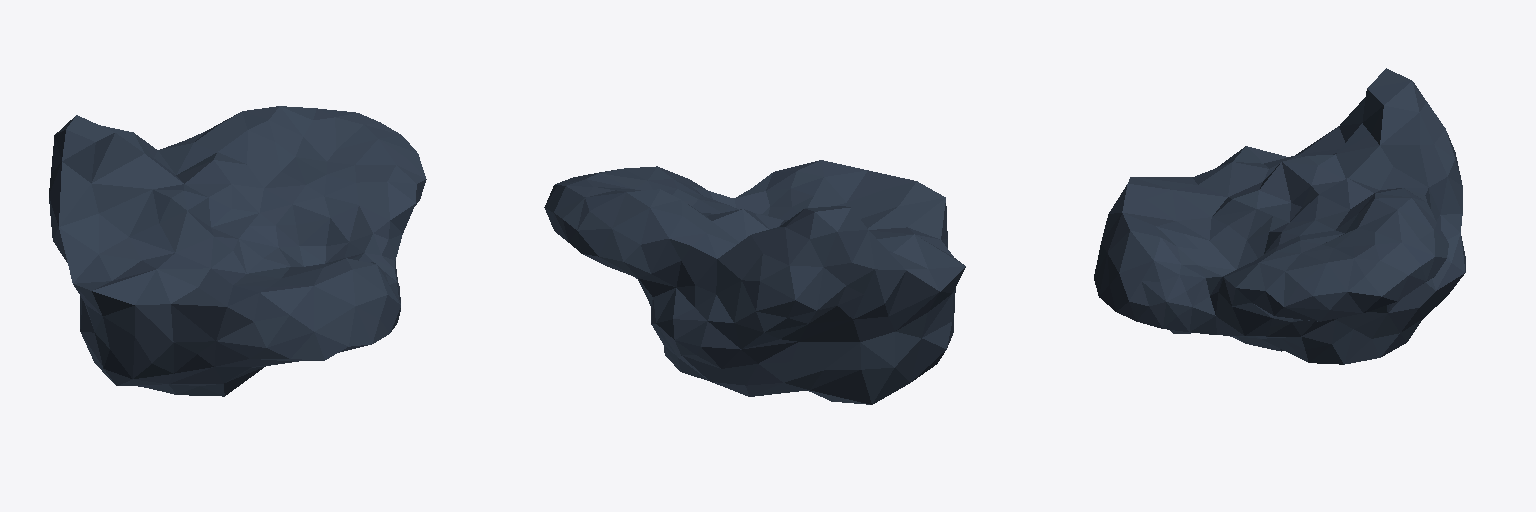
Rendered from mountain.obj.
3 renders of one model, left to right at view 1: azimuth 30°, elevation 25°; view 2: azimuth 150°, elevation 25°; view 3: azimuth 270°, elevation 25°, orthographic.
Visible parts, largest first — view 1: Sphere; view 2: Sphere; view 3: Sphere.
Boxes of the visible parts, x1=… form: Sphere: x1=49, y1=106, x2=426, y2=396; Sphere: x1=544, y1=160, x2=965, y2=404; Sphere: x1=1094, y1=68, x2=1465, y2=364.
Bounding box in the file's own units: 2.91 × 1.85 × 2.59.